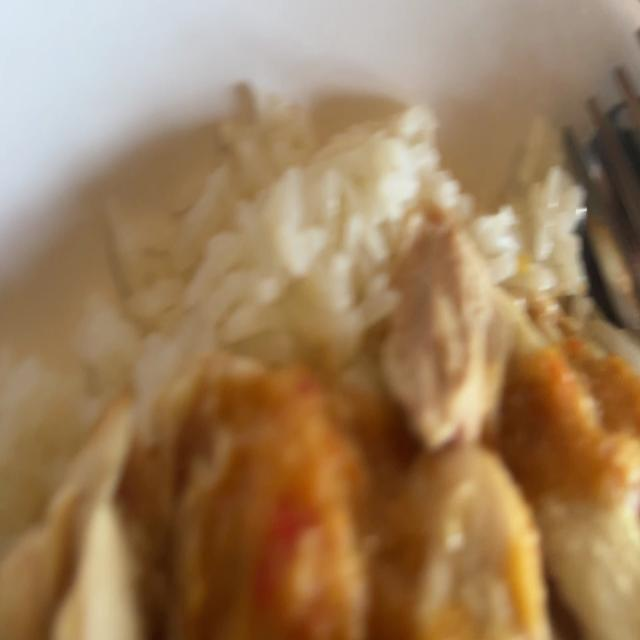boiled_chicken: (10, 217, 640, 640)
chicken_rice: (0, 89, 640, 640)
